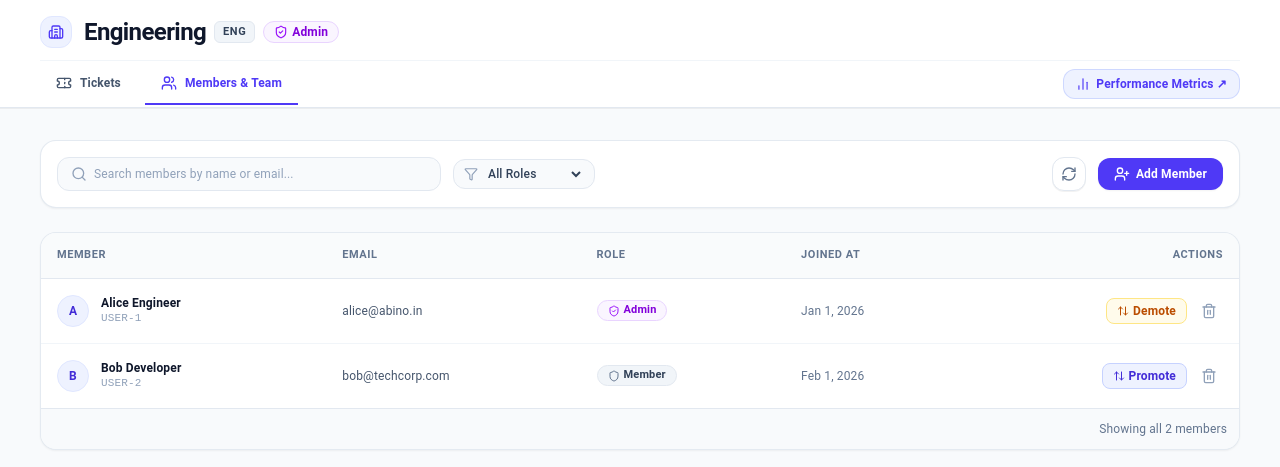
Scenario: DepartmentMembersPage › renders members, filters by role and searches by name or email
Expected: the text "Alice Engineer" is shown, [101, 295, 181, 311]
Expected: the text "Bob Developer" is shown, [101, 360, 181, 376]
# Test search by email
Type "techcorp.com" into the field with placeholder "Search members by name or email...". click: (249, 174)
box: [57, 157, 441, 191]
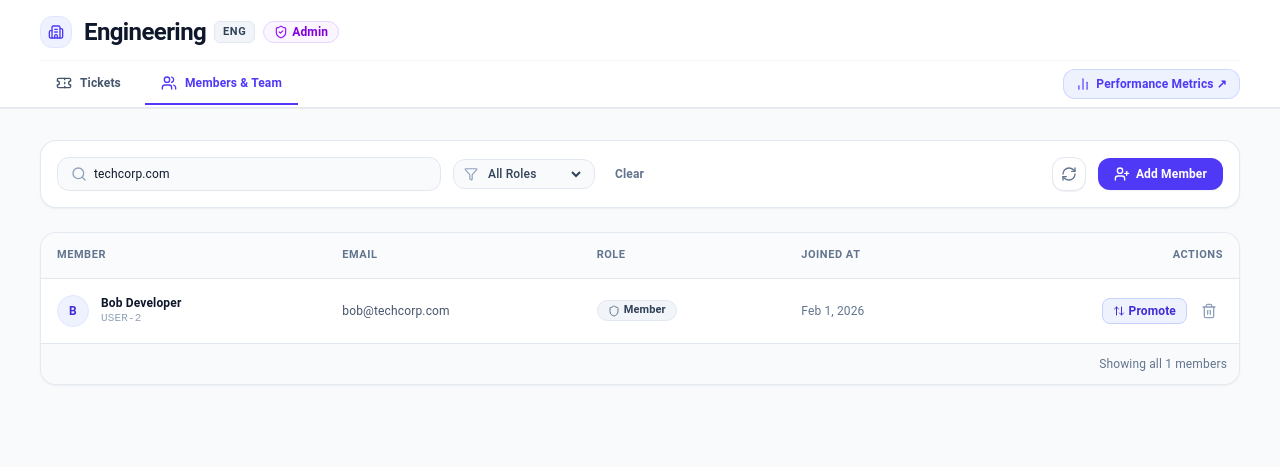
Expected: the text "Bob Developer" is shown, [101, 295, 181, 311]
Now the text "Alice Engineer" is gone
# Clear search
Clear the field with placeholder "Search members by name or email...". click: (249, 174)
box: [57, 157, 441, 191]
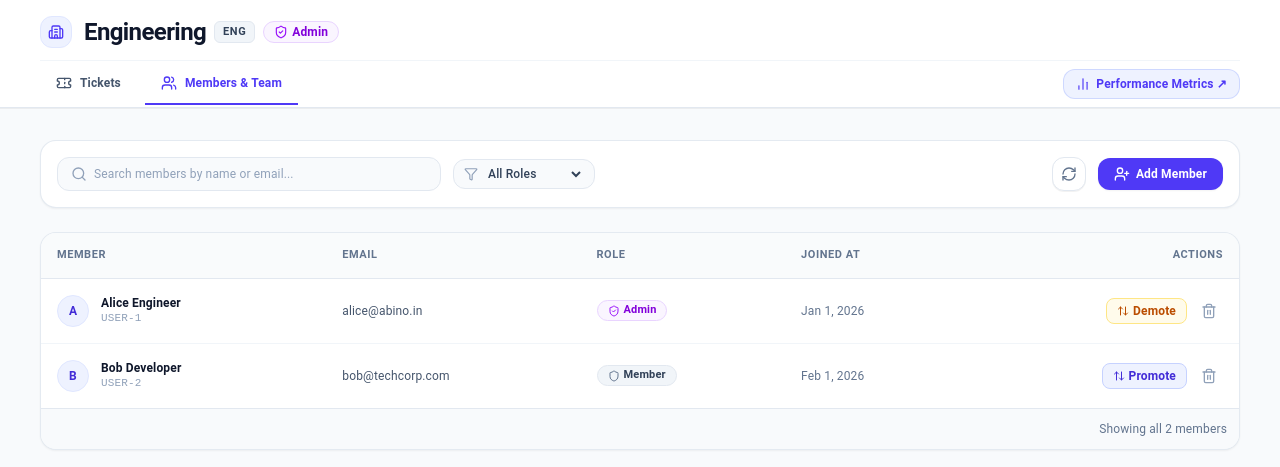
Now the text "Alice Engineer" is shown, box [101, 295, 181, 311]
# Test filter by role
Select "Admins Only" in the dropdown named "filter members by role". click: (534, 174)
box: [484, 166, 584, 182]
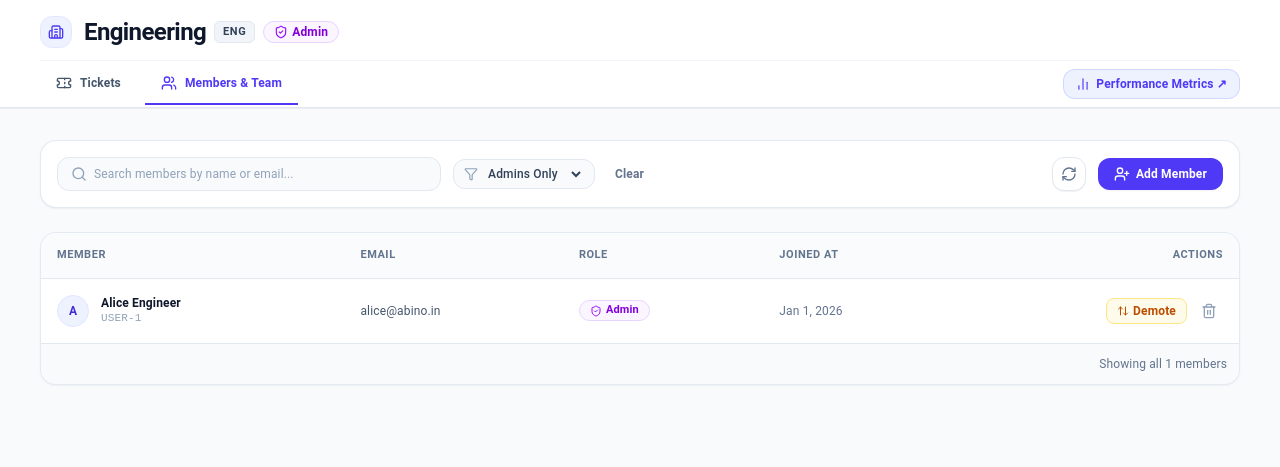
Now the text "Alice Engineer" is shown, box [101, 295, 181, 311]
Now the text "Bob Developer" is gone
